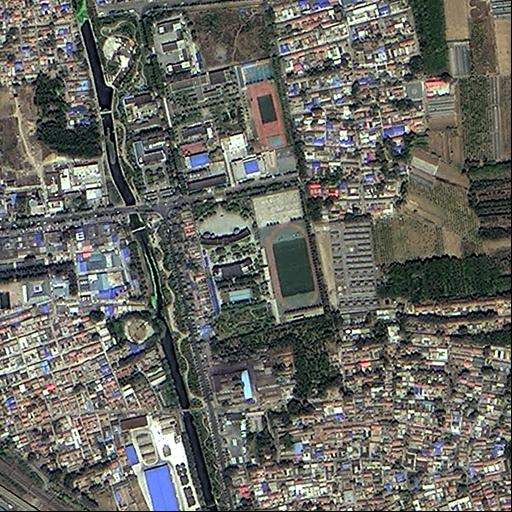school: (196, 182, 322, 320), (166, 56, 291, 151)
